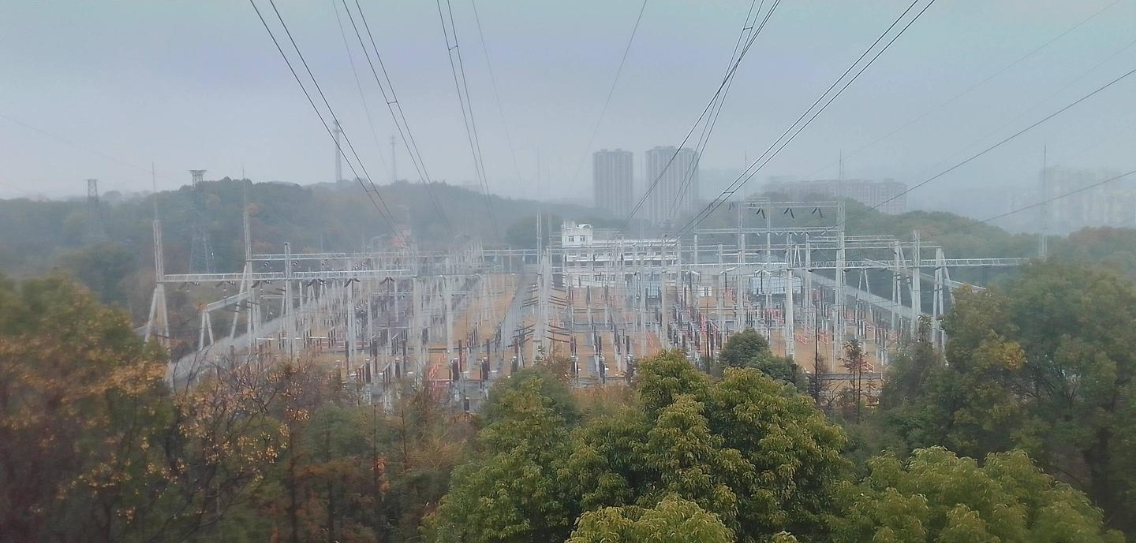山间云雾: (0, 0, 1135, 338)
